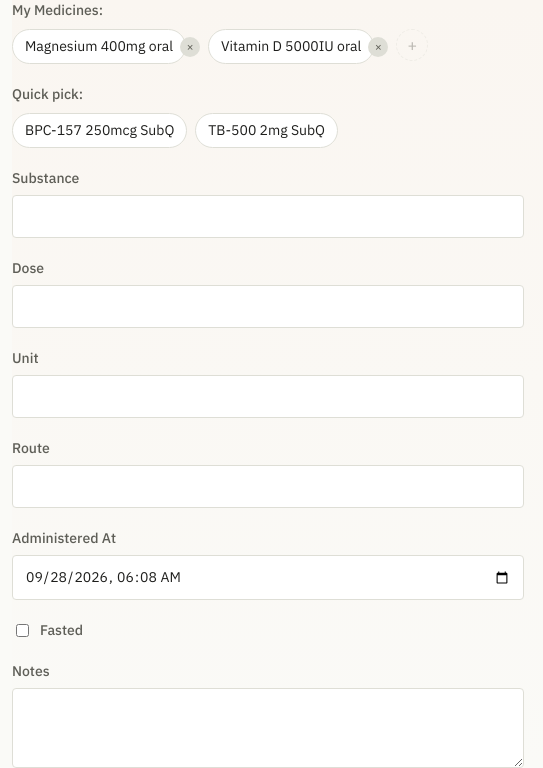
it: InterventionForm › shows error message on submission failure
// Fill fields manually
Type "Test" into the field labelled "Substance" at (268, 216), box [12, 195, 524, 238]
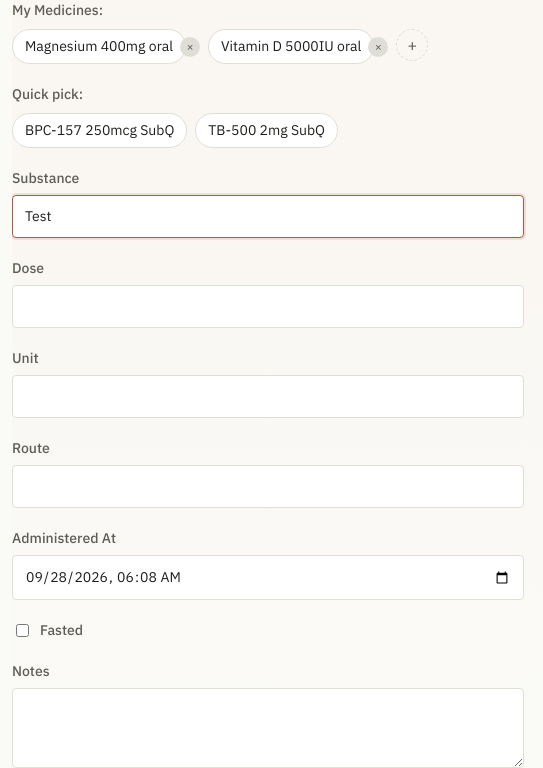
Type "100" into the number field labelled "Dose" at (268, 306), box [12, 285, 524, 328]
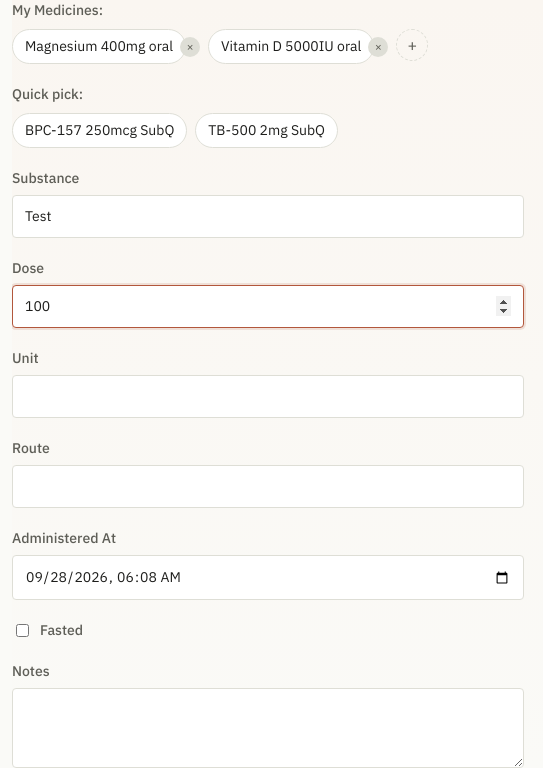
Type "mg" into the field labelled "Unit" at (268, 396), box [12, 375, 524, 418]
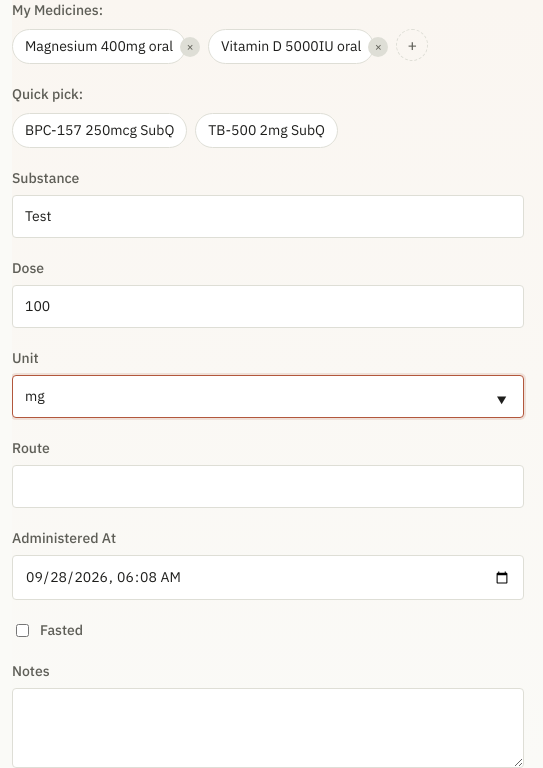
Type "oral" into the field labelled "Route" at (268, 486), box [12, 465, 524, 508]
(page scrolled)
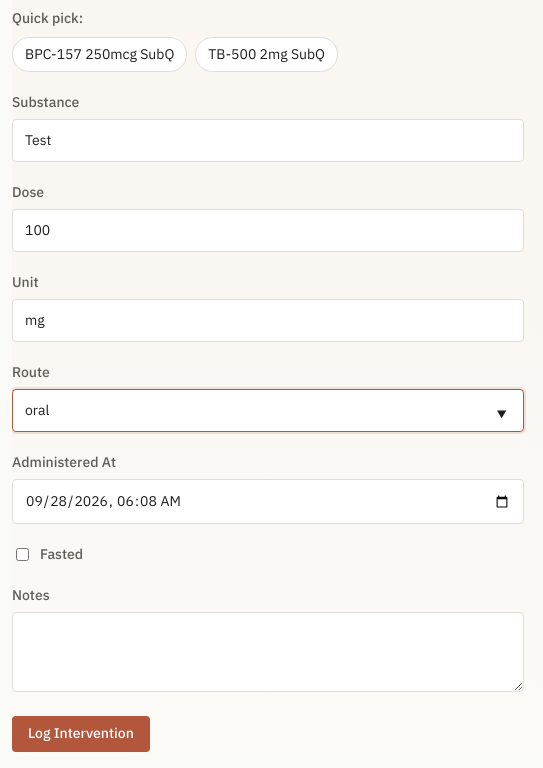
Click the button "Log Intervention" at (81, 734), box [12, 716, 150, 752]
(page scrolled)
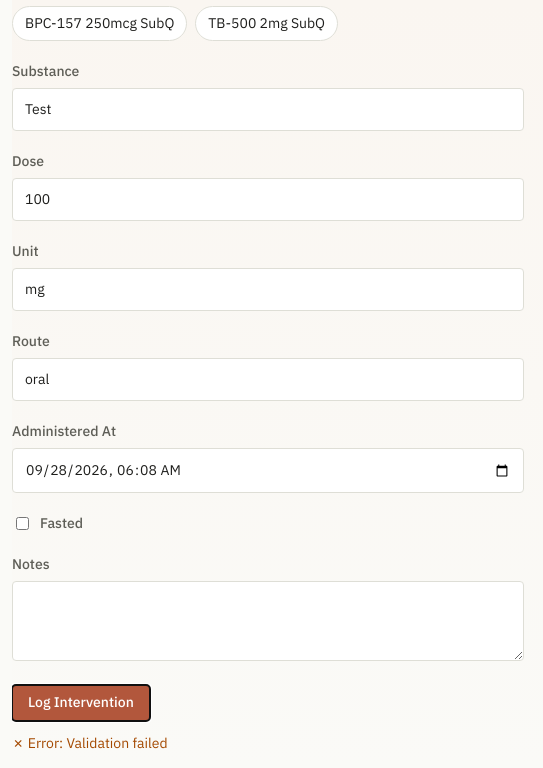
expect the text "Error: Validation failed" is shown: met, box [28, 734, 168, 752]
